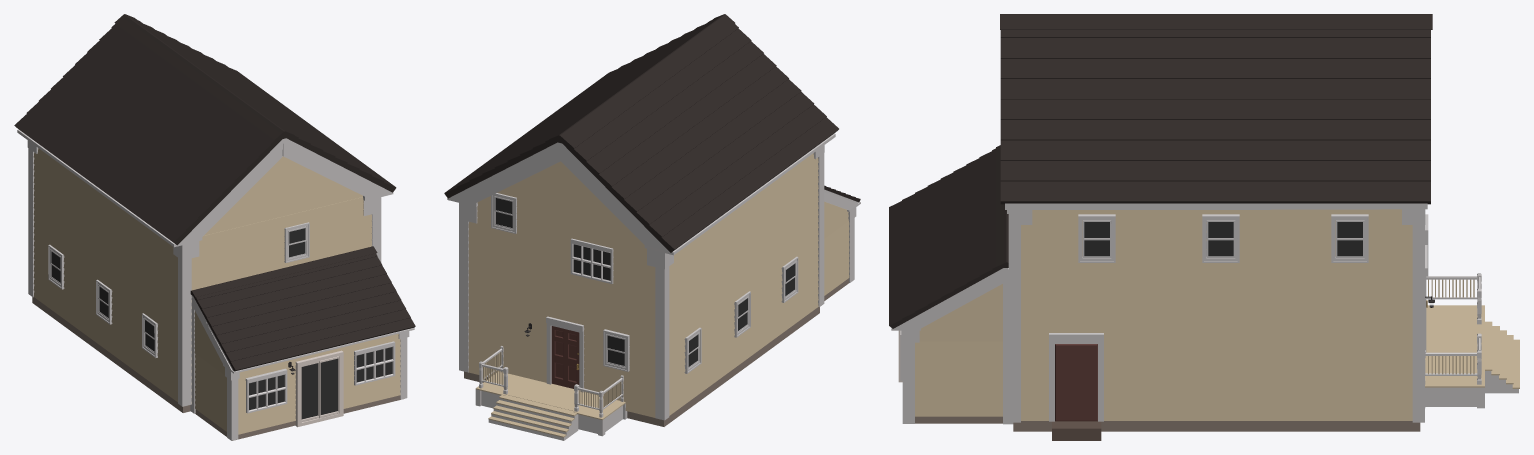
File: house4.fbx
3 views of the same model, side by side, from view 1: azimuth 30°, elevation 25°; view 2: azimuth 150°, elevation 25°; view 3: azimuth 270°, elevation 25° (orthographic). The views are drawn at different scales.
Visible parts, largest first — view 1: pCube1044 (×2), pCube1058, pCube1059, pCube1070, pCube1047 (×2), pCube1069, pCube1046, pCube1074, roofframe_main (×2), pCube1082, pCube684 (×2), pCube1132 (+14 smaller); view 2: pCube1044, pCube1062, pCube1058, pCube1059, pCube1063, pCube1046, pCube1068, porch, roofframe_main, pCube1047, stairs, pCube1079 (+12 smaller); view 3: pCube1046, pCube1061, pCube1060, pCube1044, pCube1047 (×2), pCube1077, porch, roofframe_main (×2), pCube997, pCube1096, pCube1076, pCube1080 (+10 smaller).
Boxes of the visible parts, x1,y1,x2,y2 form: pCube1044 (×2): [14, 24, 415, 371]; pCube1058: [33, 215, 177, 401]; pCube1059: [33, 148, 177, 319]; pCube1070: [191, 197, 371, 321]; pCube1047 (×2): [114, 14, 377, 297]; pCube1069: [204, 156, 362, 235]; pCube1046: [138, 20, 396, 194]; pCube1074: [238, 334, 400, 434]; roofframe_main (×2): [17, 129, 414, 373]; pCube1082: [178, 258, 191, 406]; pCube684 (×2): [245, 341, 395, 413]; pCube1132: [195, 354, 226, 431]; pCube1044: [560, 24, 838, 252]; pCube1062: [468, 204, 655, 332]; pCube1058: [669, 222, 818, 415]; pCube1059: [669, 153, 818, 330]; pCube1063: [468, 287, 655, 417]; pCube1046: [444, 20, 710, 200]; pCube1068: [477, 161, 643, 244]; porch: [475, 346, 627, 436]; roofframe_main: [447, 133, 835, 255]; pCube1047: [549, 14, 735, 144]; stairs: [488, 395, 578, 440]; pCube1079: [655, 266, 669, 420]; pCube1046: [1000, 29, 1430, 204]; pCube1061: [1021, 310, 1412, 420]; pCube1060: [1021, 209, 1412, 309]; pCube1044: [889, 148, 1007, 328]; pCube1047 (×2): [996, 14, 1432, 267]; pCube1077: [915, 341, 1002, 416]; porch: [1425, 273, 1484, 408]; roofframe_main (×2): [891, 203, 1427, 330]; pCube997: [1013, 421, 1420, 431]; pCube1096: [1055, 344, 1097, 421]; pCube1076: [919, 284, 1002, 341]; pCube1080: [1412, 209, 1424, 422].
Bounding box in the file's own units: 10.84 × 12.4 × 19.68.
